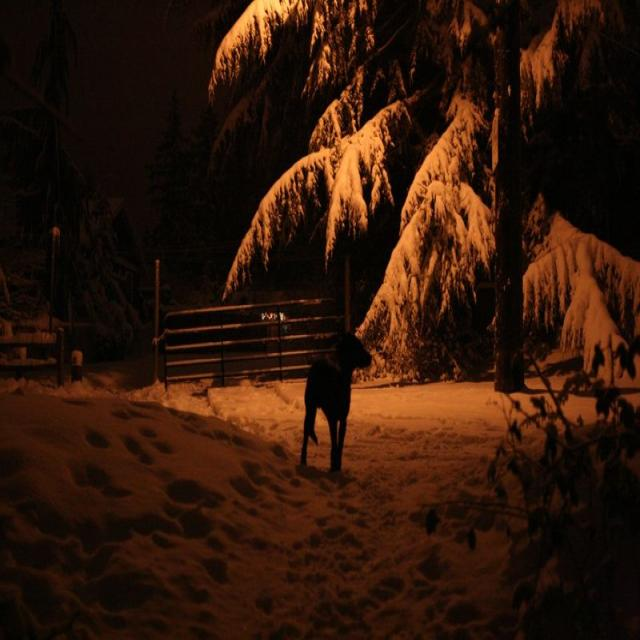dog: (290, 325, 380, 476)
